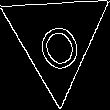O_NW: (28, 6, 85, 72)
